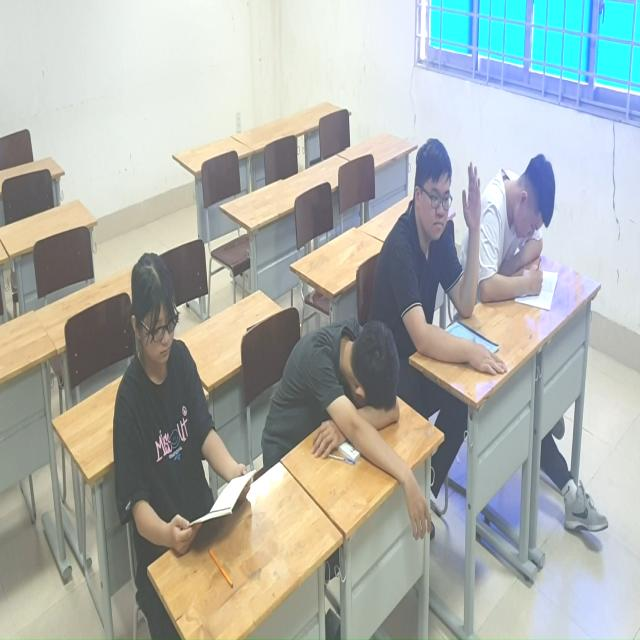raise_hand: (398, 135, 487, 380)
read: (108, 249, 259, 568), (484, 146, 562, 332)
sleep: (277, 317, 435, 548)
